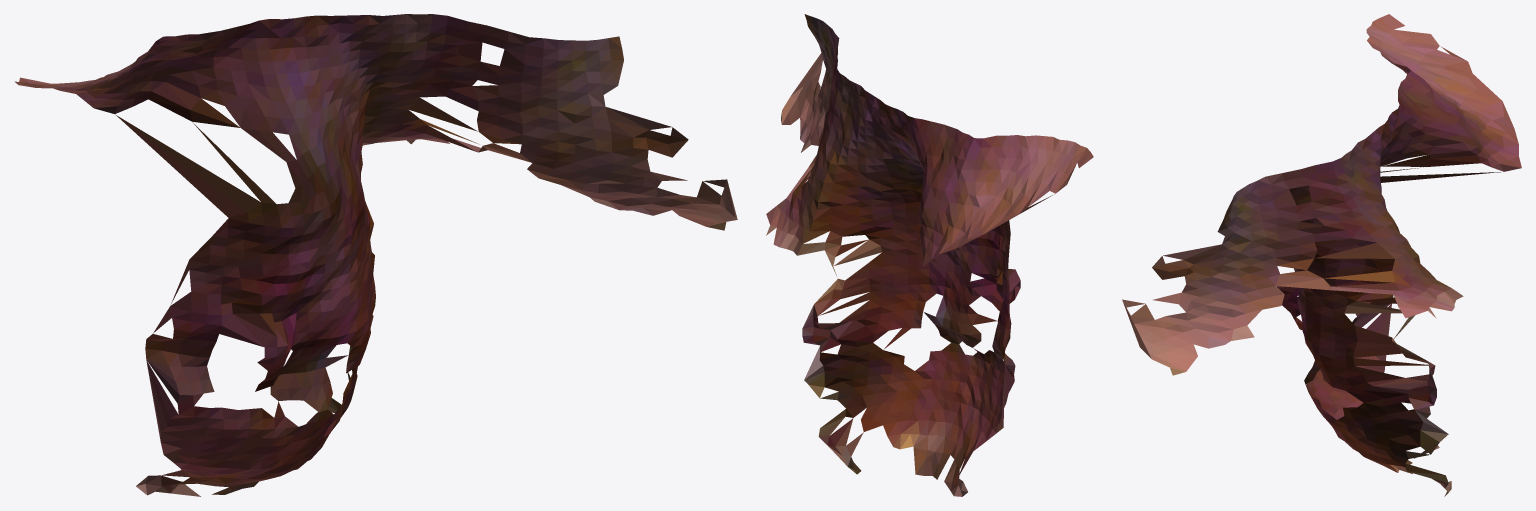
The picture shows the model from 3 angles, left to right: view 1: azimuth 30°, elevation 25°; view 2: azimuth 150°, elevation 25°; view 3: azimuth 270°, elevation 25°; orthographic projection. The views are drawn at different scales.
Visible parts, largest first — view 1: ofMesh; view 2: ofMesh; view 3: ofMesh.
Part boxes in pixels (left/top/right/bottom): ofMesh: left=14, top=14, right=737, bottom=496; ofMesh: left=766, top=14, right=1093, bottom=496; ofMesh: left=1122, top=14, right=1521, bottom=496.
Bounding box in the file's own units: 342 × 276 × 268.
1 material, 1 textured.
